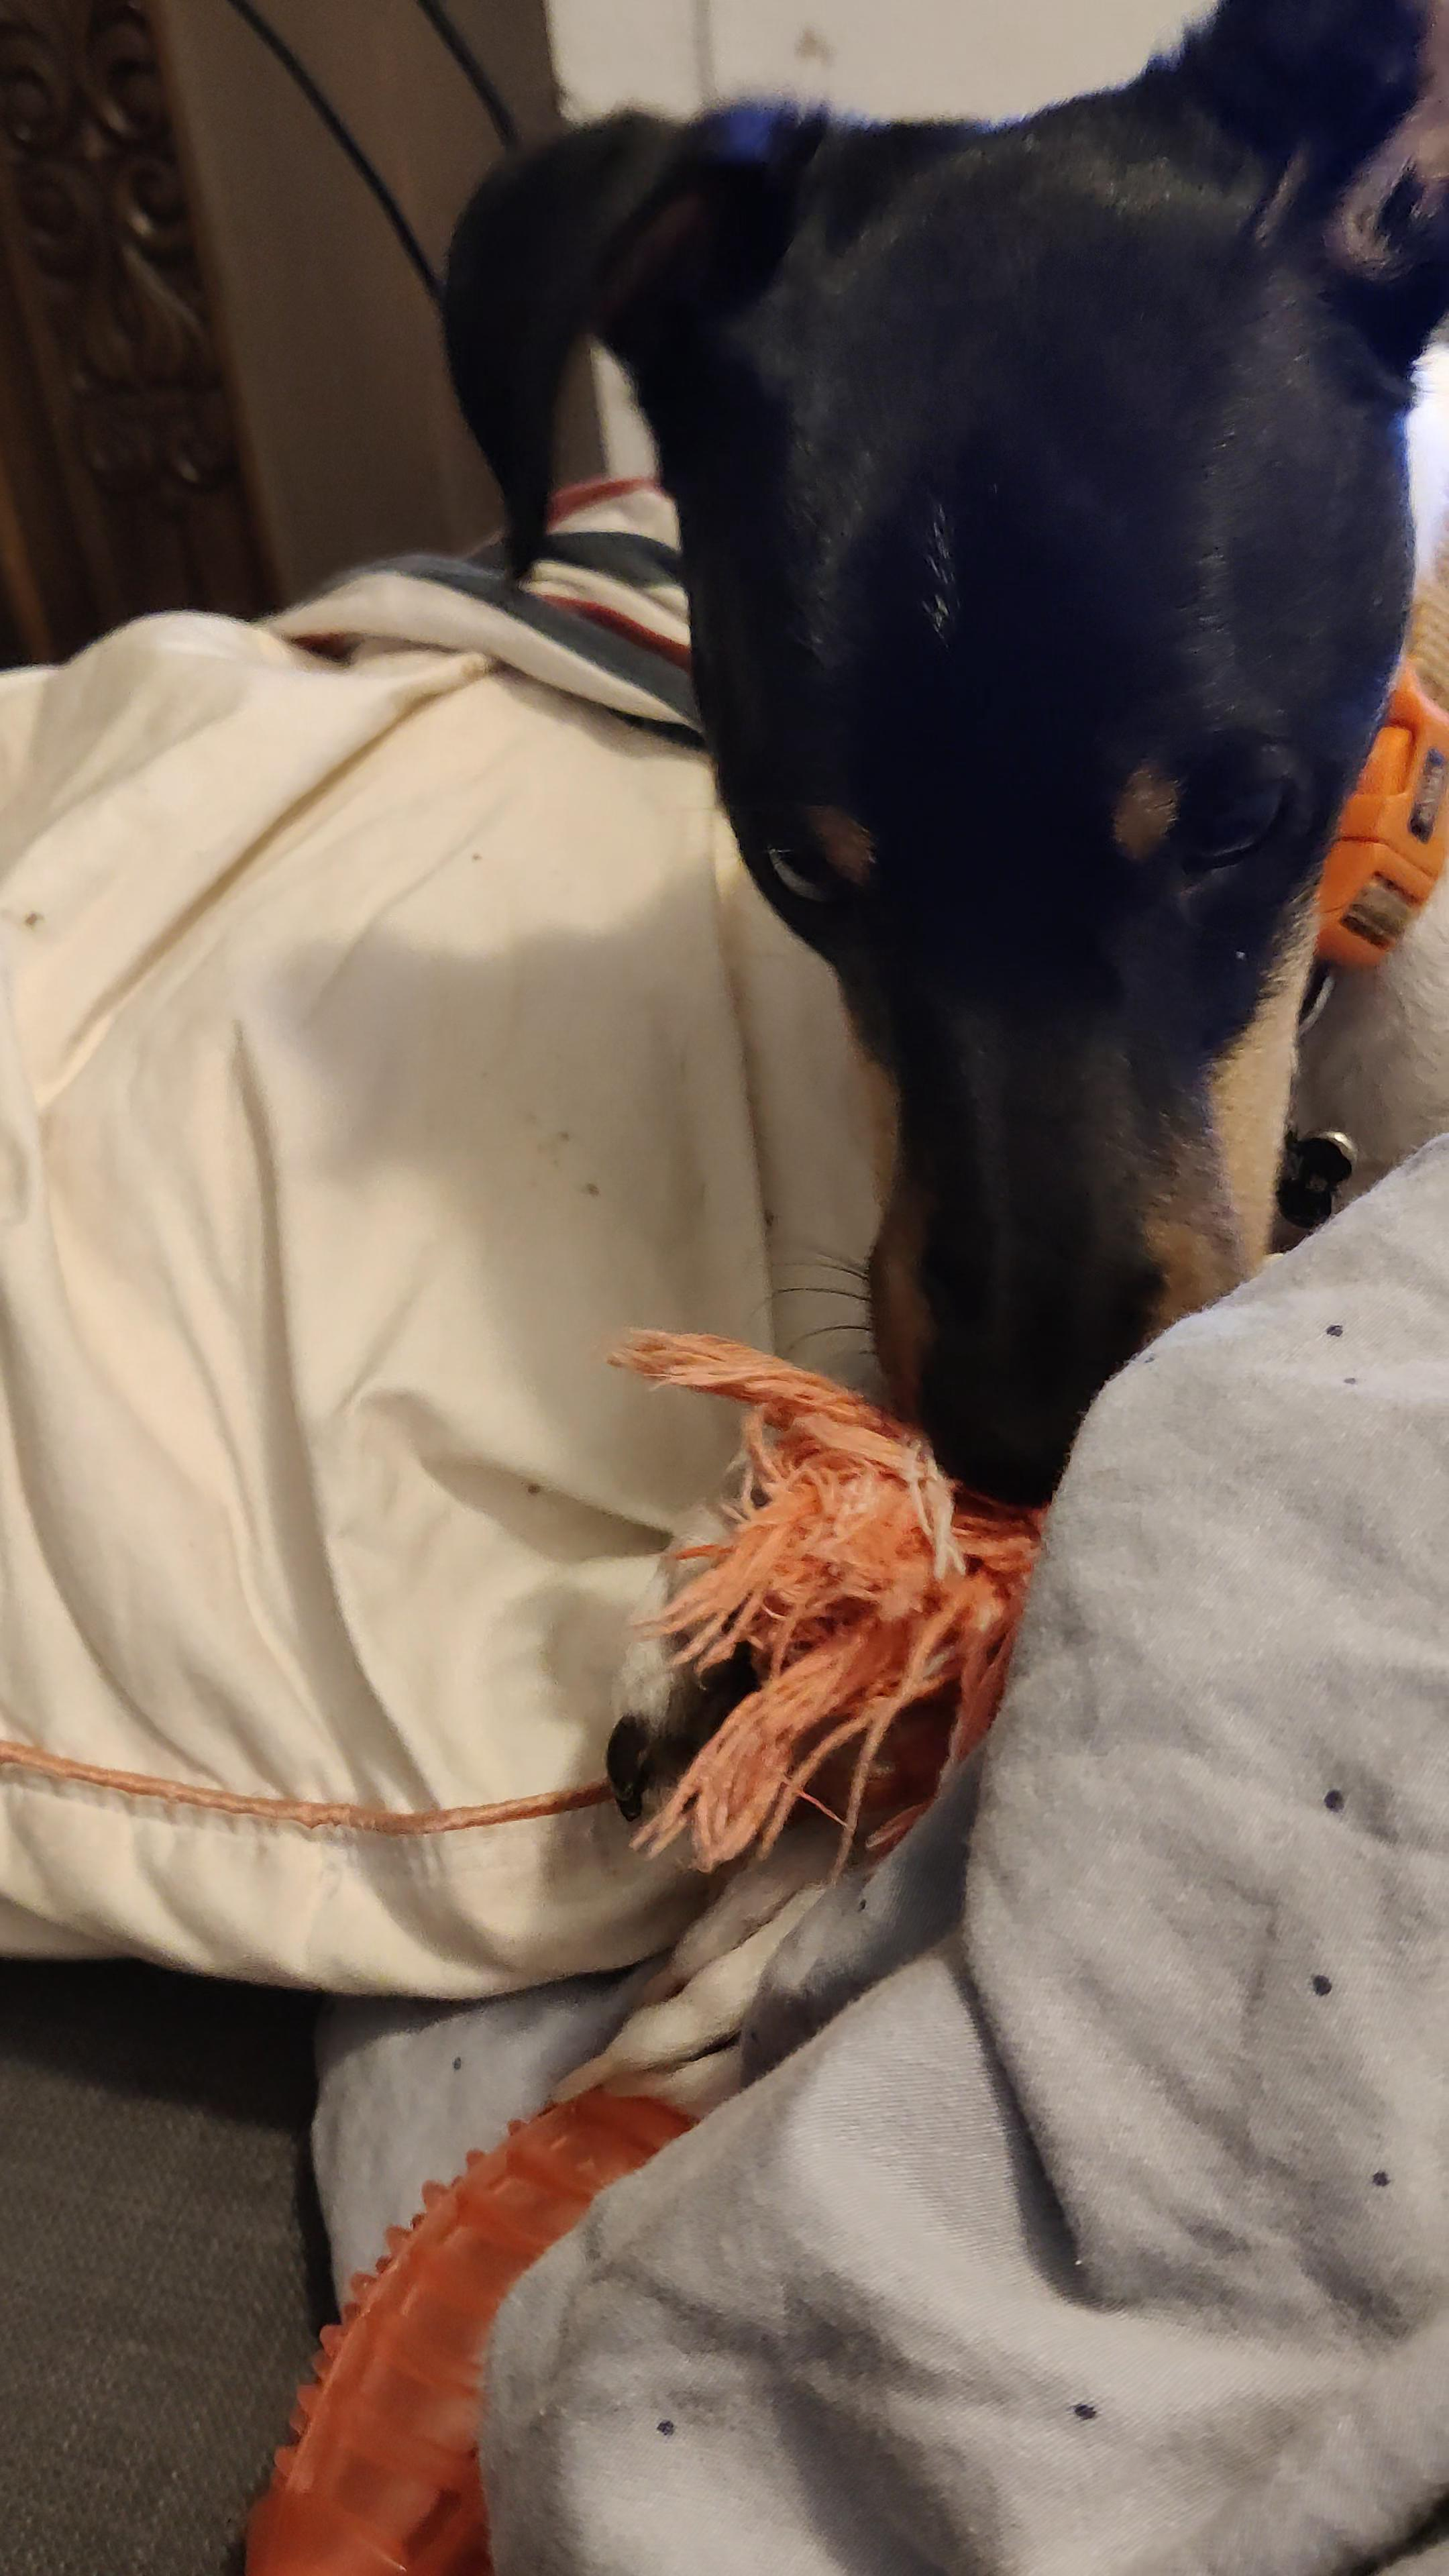Dog: (412, 0, 1449, 2174)
